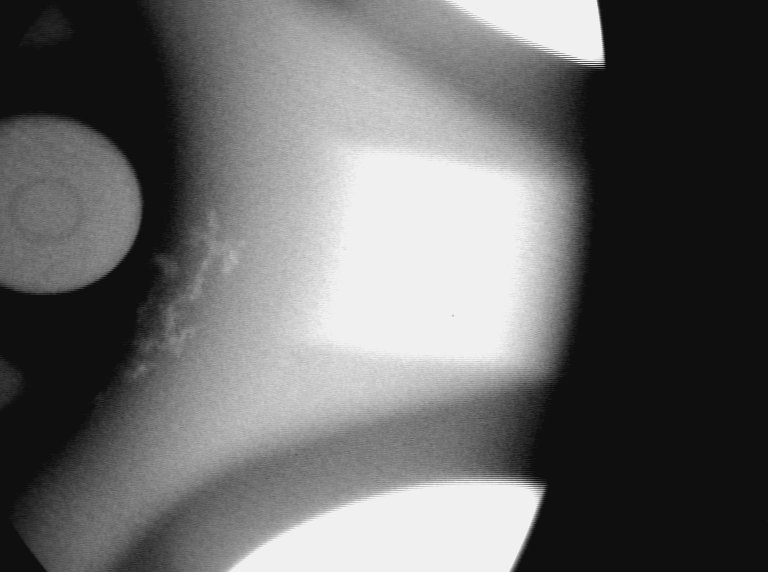defect: (86, 384, 119, 409)
